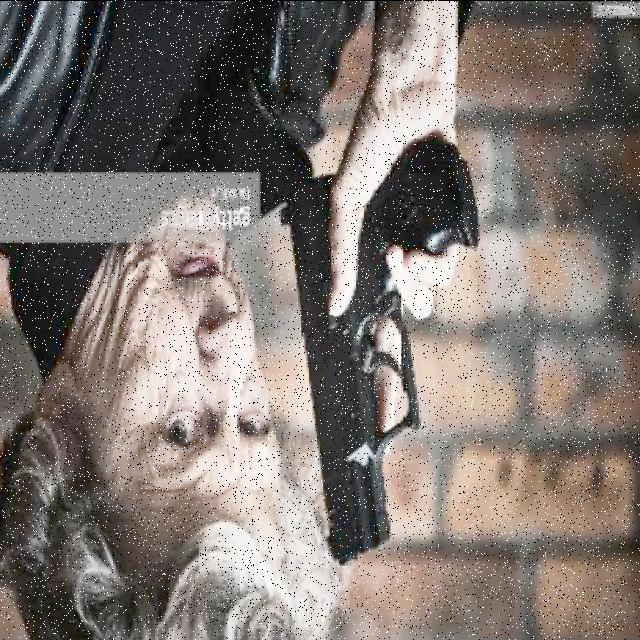Guns: (282, 133, 479, 565)
